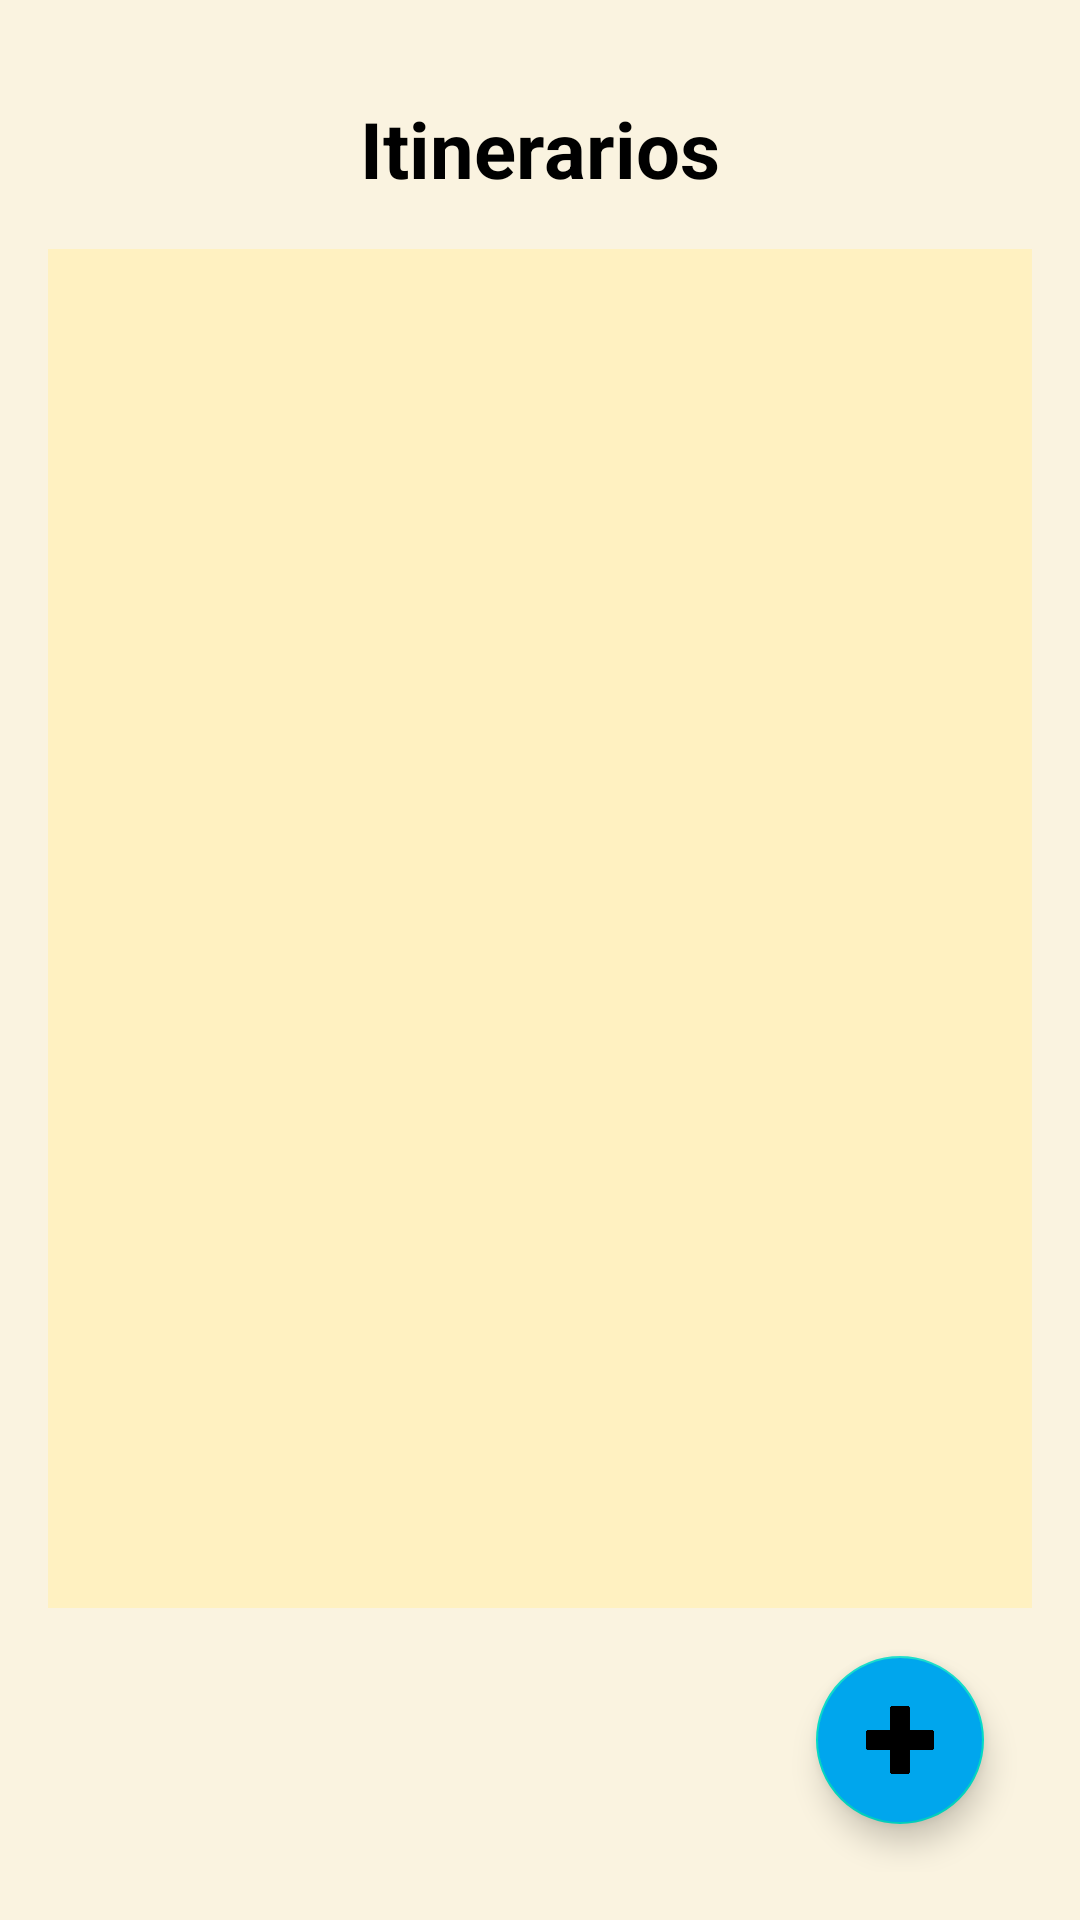

Screen size 1080 x 1920. Icon name, then its center in pixels as point (x, y):
Añadir itinerario: point (900, 1740)
